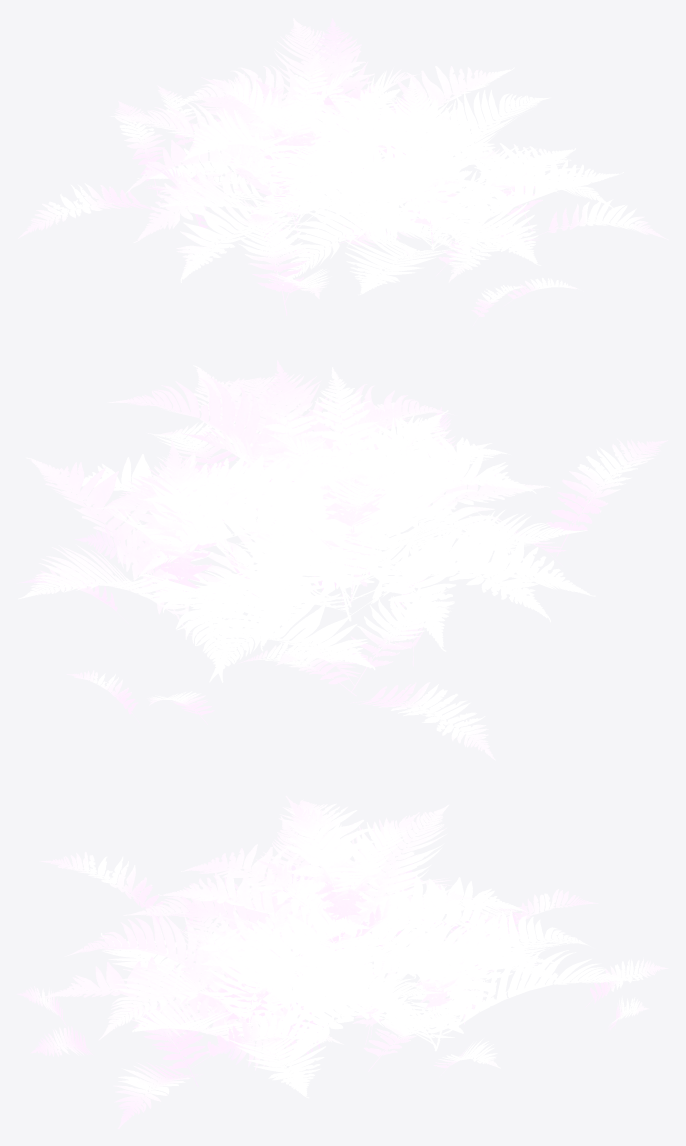
3 views of the same model, one above another, from view 1: azimuth 30°, elevation 25°; view 2: azimuth 150°, elevation 25°; view 3: azimuth 270°, elevation 25° (orthographic). The views are drawn at different scales.
Parts seen in each view (by area): view 1: SM_GF_Fern_02_LOD0; view 2: SM_GF_Fern_02_LOD0; view 3: SM_GF_Fern_02_LOD0.
Part boxes in pixels (x1=…): SM_GF_Fern_02_LOD0: x1=18, y1=18, x2=668, y2=325; SM_GF_Fern_02_LOD0: x1=17, y1=360, x2=667, y2=760; SM_GF_Fern_02_LOD0: x1=17, y1=795, x2=668, y2=1128.
Bounding box in the file's own units: 1.03 × 0.4044 × 1.17.
1 material, 1 textured.
